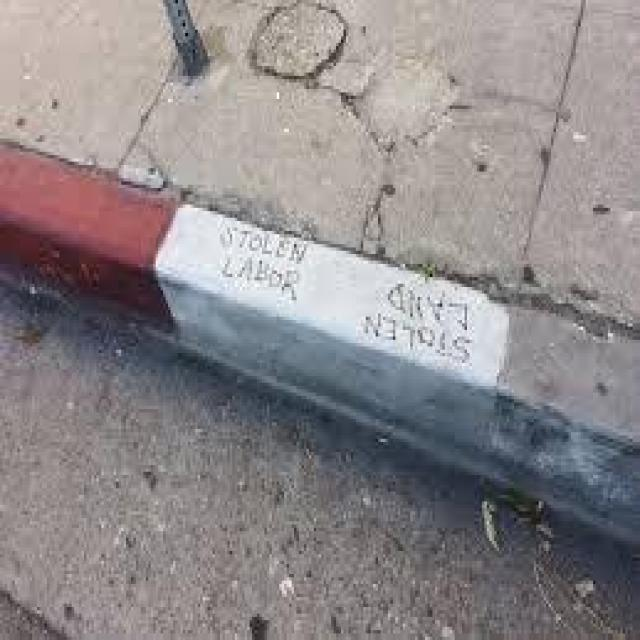curb: (1, 143, 640, 547)
